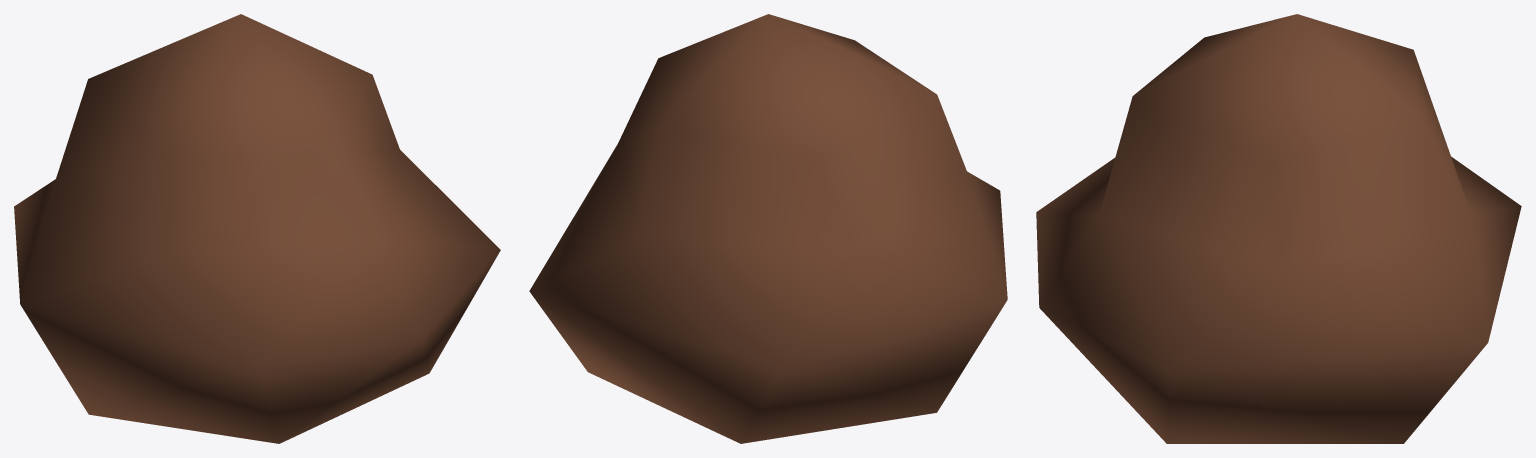
Rendered from Poo.fbx.
3 views of the same model, side by side, from view 1: azimuth 30°, elevation 25°; view 2: azimuth 150°, elevation 25°; view 3: azimuth 270°, elevation 25° (orthographic). The views are drawn at different scales.
Visible parts, largest first — view 1: Poo; view 2: Poo; view 3: Poo.
Part boxes in pixels (<box>): Poo: <box>14,14,500,443</box>; Poo: <box>529,14,1007,443</box>; Poo: <box>1036,14,1521,443</box>.
Bounding box in the file's own units: 44.9 × 35.83 × 41.78.
